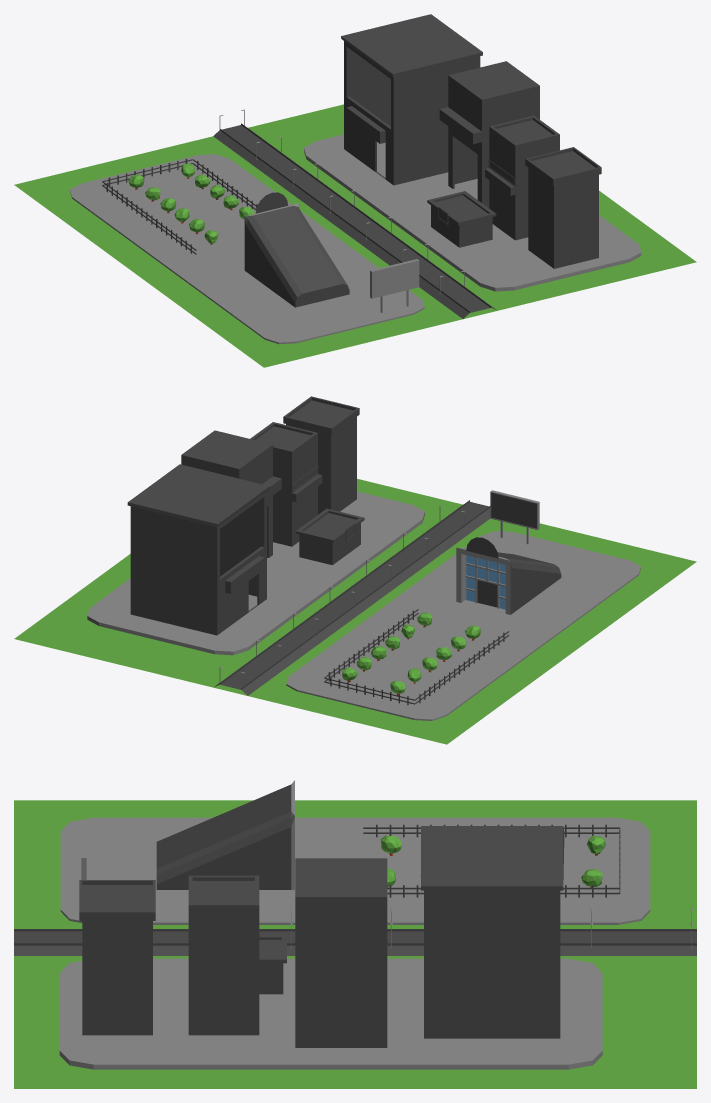
3 views of the same model, one above another, from view 1: azimuth 30°, elevation 25°; view 2: azimuth 150°, elevation 25°; view 3: azimuth 270°, elevation 25° (orthographic). The views are drawn at different scales.
Parts seen in each view (by area): view 1: Plane; view 2: Plane; view 3: Plane.
Boxes of the visible parts, x1,y1,x2,y2 form: Plane: (14, 14, 696, 367); Plane: (14, 396, 696, 744); Plane: (14, 780, 696, 1088).
Bounding box in the file's own units: 20000 × 5155 × 20000.
